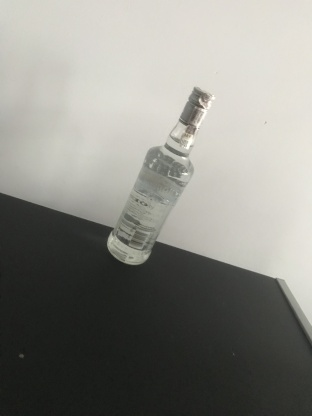nakretka: (177, 86, 215, 132)
